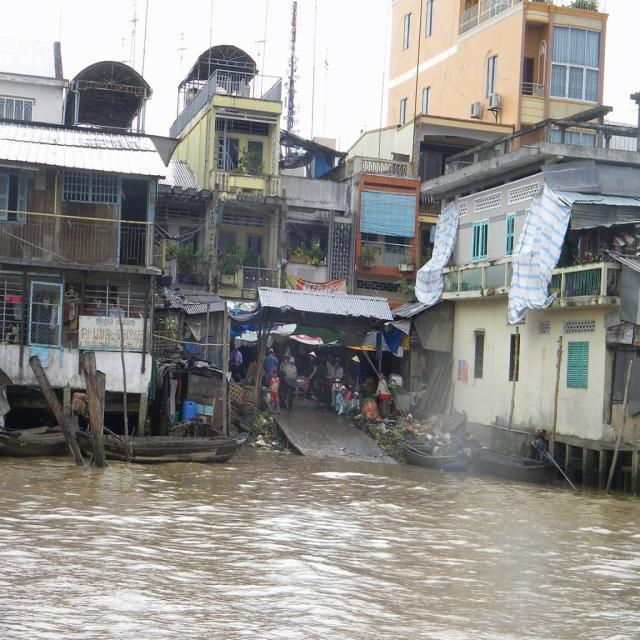boat: (74, 427, 255, 463), (400, 440, 470, 475)
